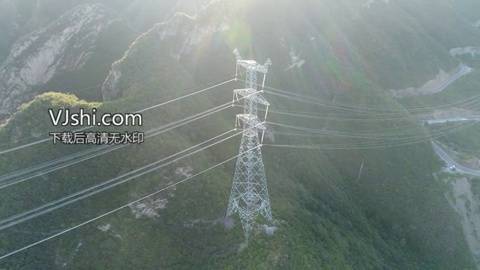tower_body: (223, 44, 282, 243)
tower_foot: (224, 189, 274, 239)
tower_head: (230, 48, 276, 77)
